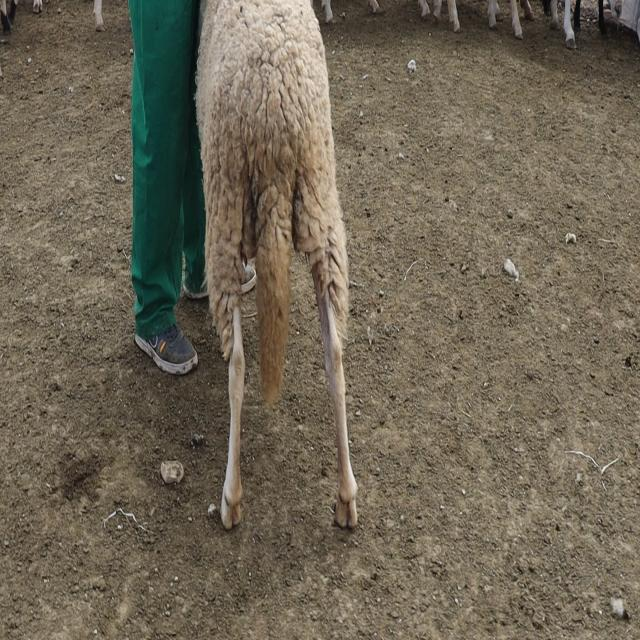Score_3: (197, 0, 358, 529)
